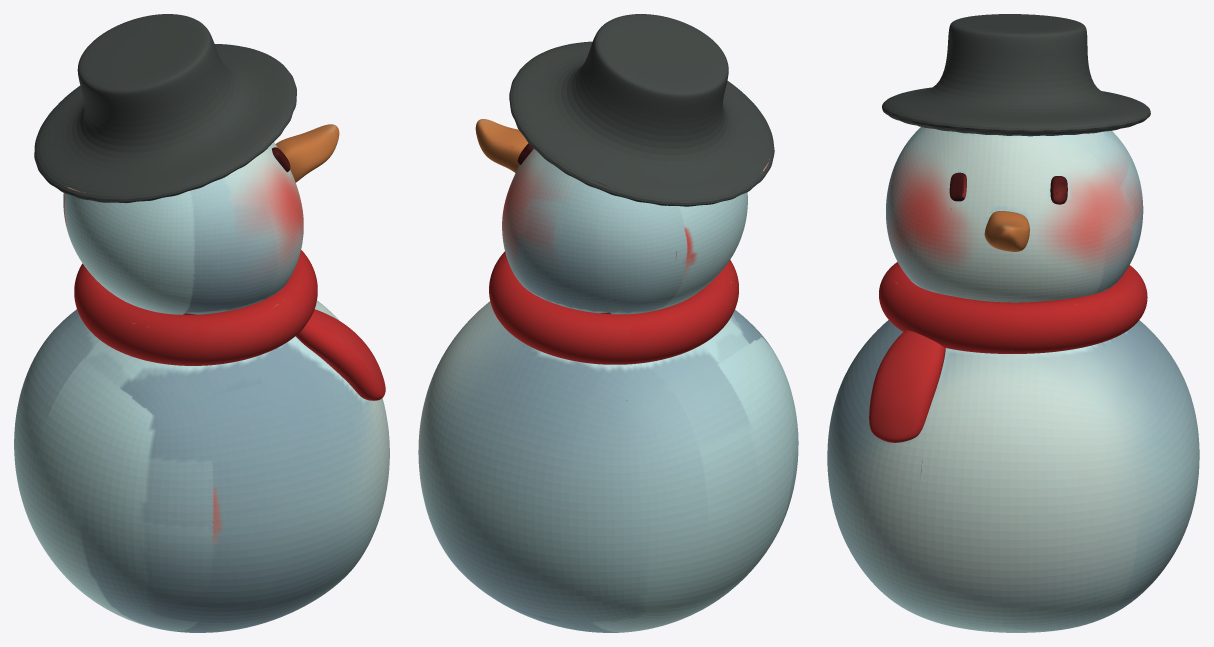
The model's file is SnowMan.fbx.
3 renders of one model, left to right at view 1: azimuth 30°, elevation 25°; view 2: azimuth 150°, elevation 25°; view 3: azimuth 270°, elevation 25°, orthographic.
Visible parts, largest first — view 1: Cylinder; view 2: Cylinder; view 3: Cylinder.
Part boxes in pixels (<box>): Cylinder: <box>14,14,389,632</box>; Cylinder: <box>418,14,798,632</box>; Cylinder: <box>827,14,1199,632</box>.
Size of the model in its own units: 88.45 by 155 by 90.11.
